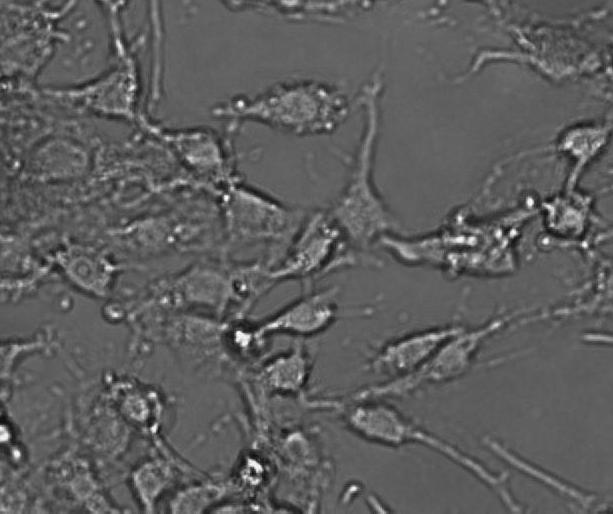Dead: (217, 321, 269, 363), (230, 448, 276, 492), (1, 415, 32, 466)
